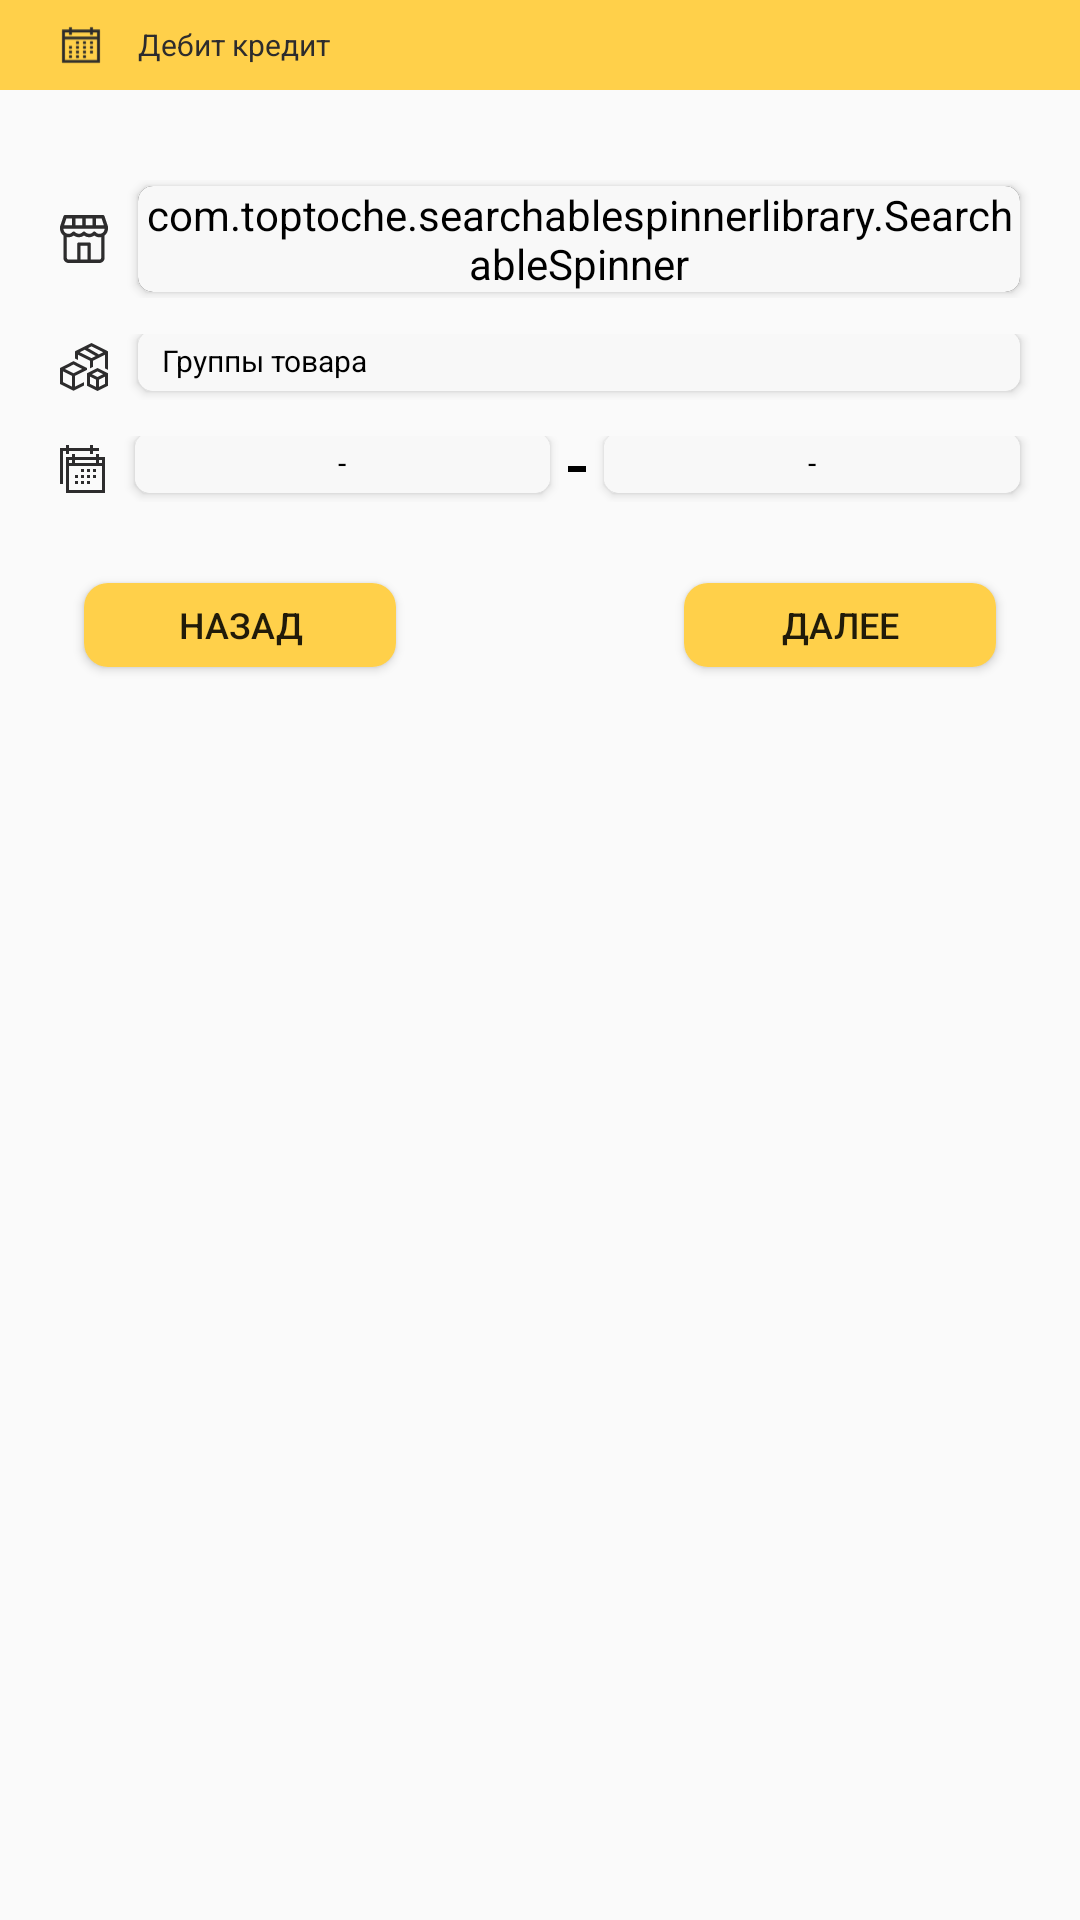

Point at icon controls on the screen. Image size 1080 × 1920, points as point (x, y).
group product: point (84, 367)
market: point (84, 239)
